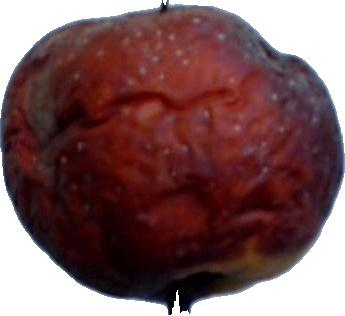Apple Overripe: (0, 0, 345, 308)
